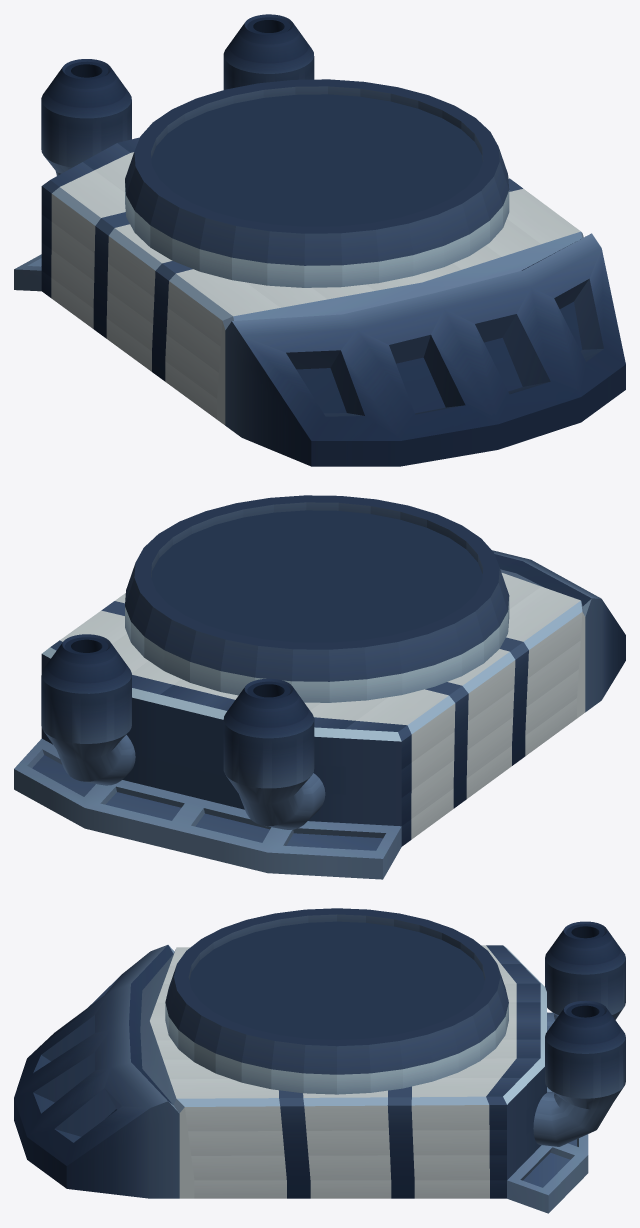
The model's file is TowerCart.fbx.
3 renders of one model, top to bottom at view 1: azimuth 30°, elevation 25°; view 2: azimuth 150°, elevation 25°; view 3: azimuth 270°, elevation 25°, orthographic. The views are drawn at different scales.
Parts seen in each view (by area): view 1: TowerCart; view 2: TowerCart; view 3: TowerCart.
Boxes of the visible parts, box(x1,y1,x2,y2) form: TowerCart: box(14, 14, 625, 466); TowerCart: box(14, 495, 625, 879); TowerCart: box(14, 908, 625, 1213).
Bounding box in the file's own units: 692 × 328 × 1114.
